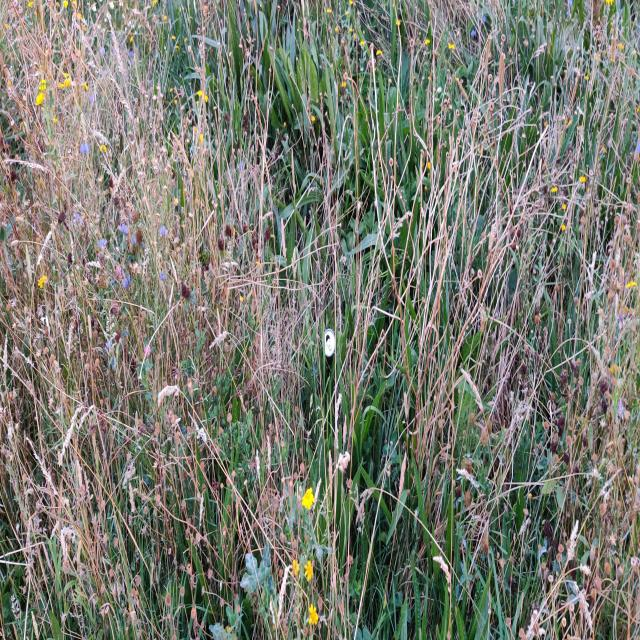litter: (320, 321, 335, 356)
